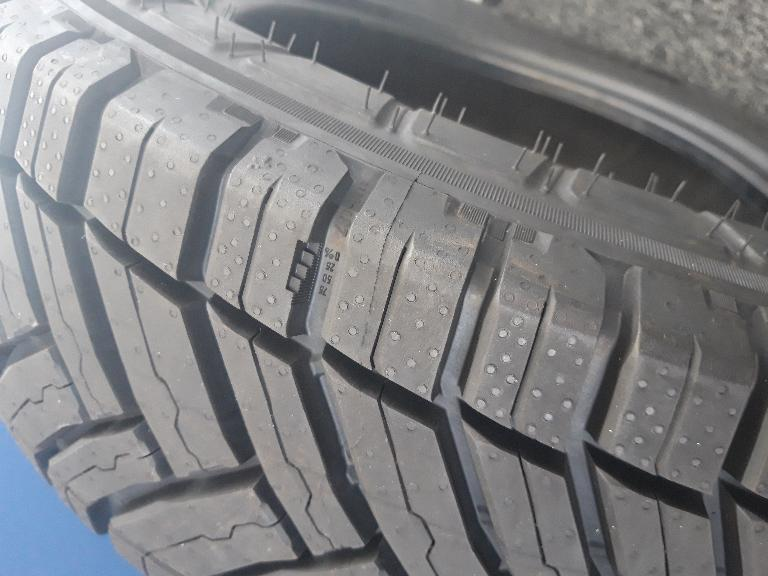temoin:100: (284, 237, 324, 306)
